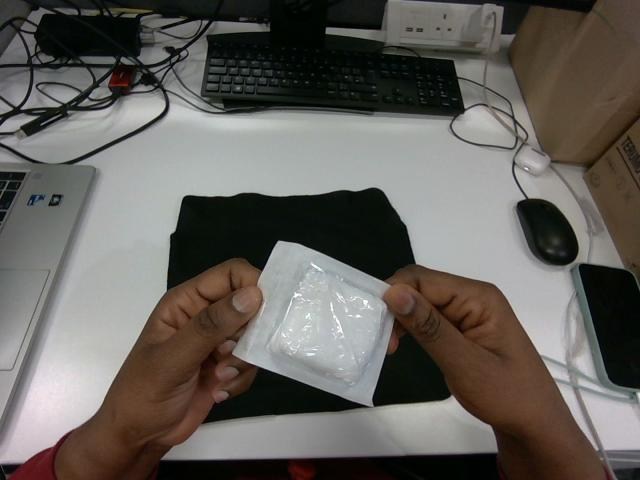gauze: (233, 241, 392, 405)
